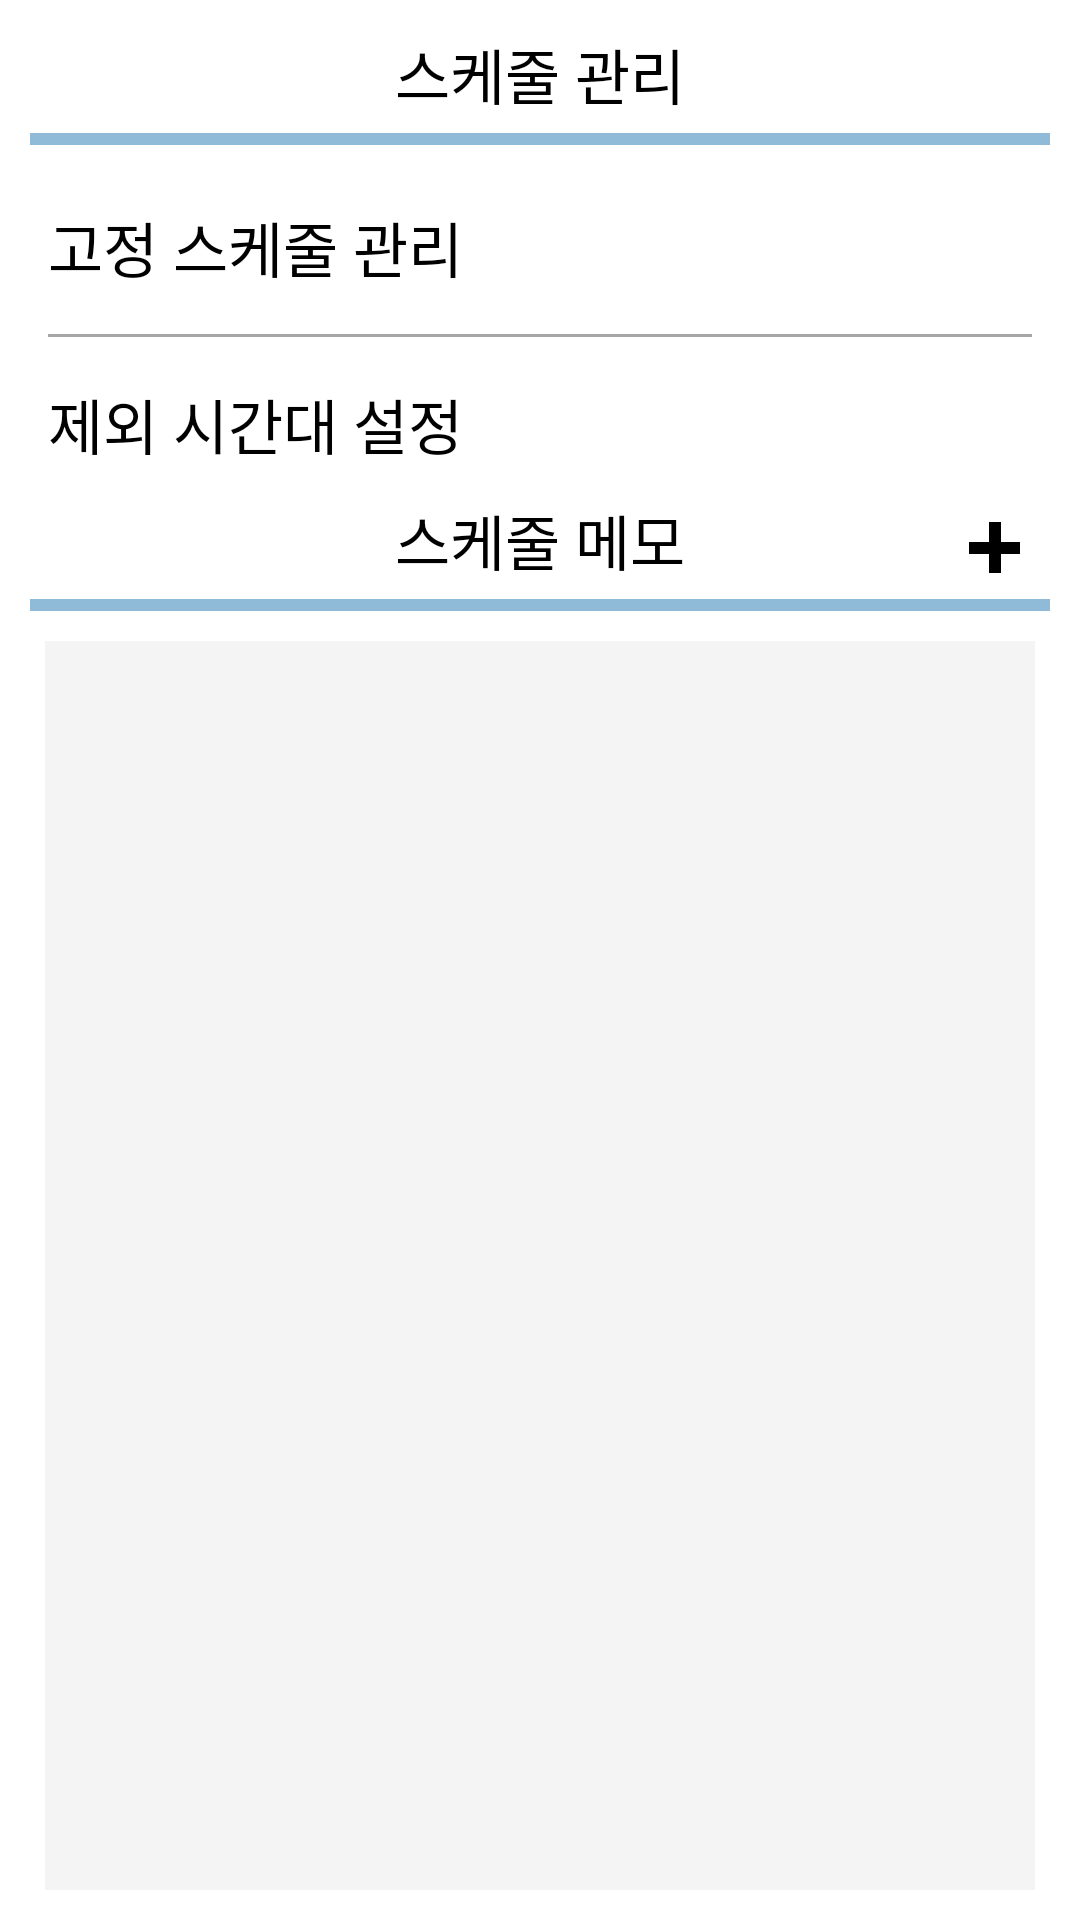

Where icons sit on this 1080w x 1920h app screen, as {"left": x1, "top": y1, "right": x2, "bottom": y2}:
add: {"left": 969, "top": 522, "right": 1020, "bottom": 573}
